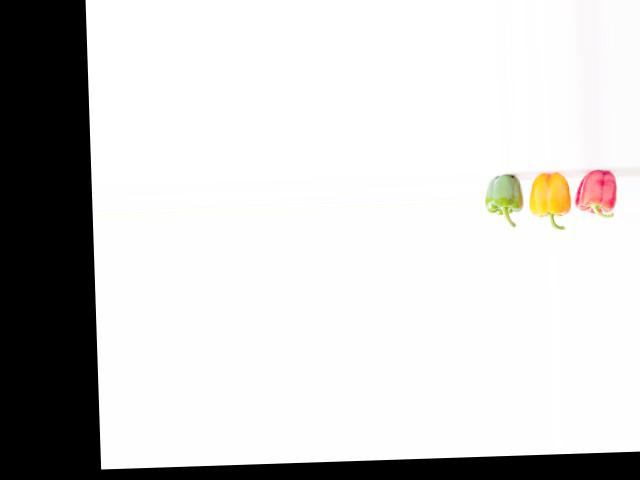bell_pepper: (573, 170, 621, 229)
